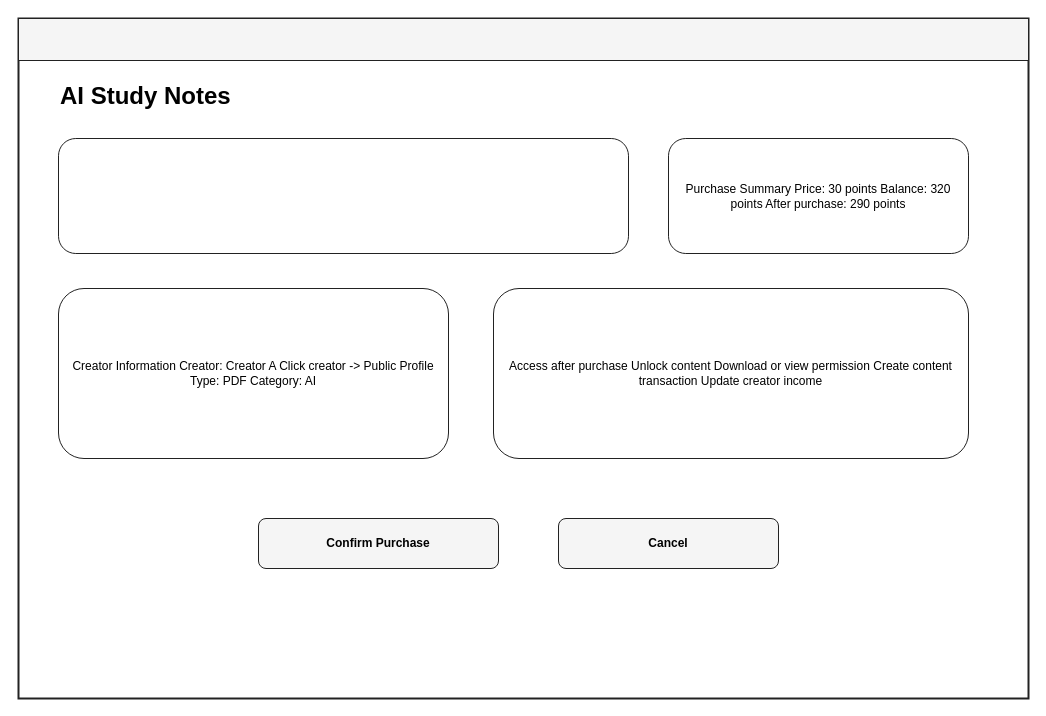
The diagram is 1046 pixels wide and 716 high, and some of its shapes have lost their labels. The centre of each missing label's shape, as x and y in pixels:
"Content Description Downloadable PDF notes created for beginner AI learners." belongs at point (343, 196).
"User Platform - Content Detail" belongs at point (523, 39).
